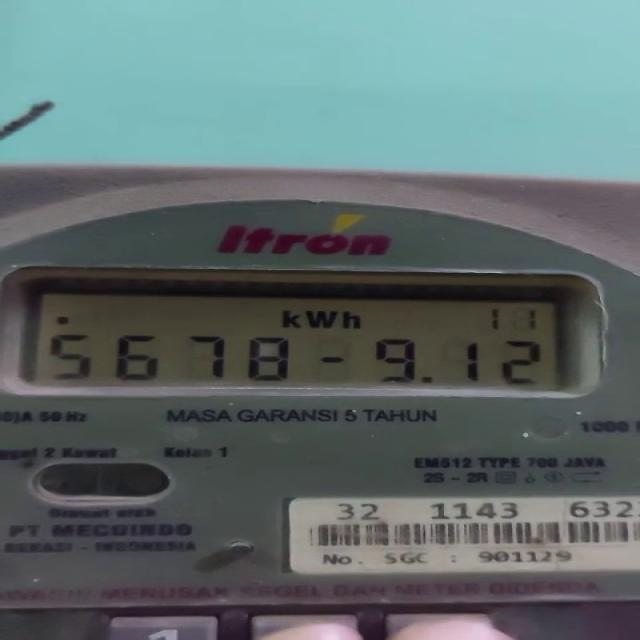LCD: (27, 277, 601, 398)
